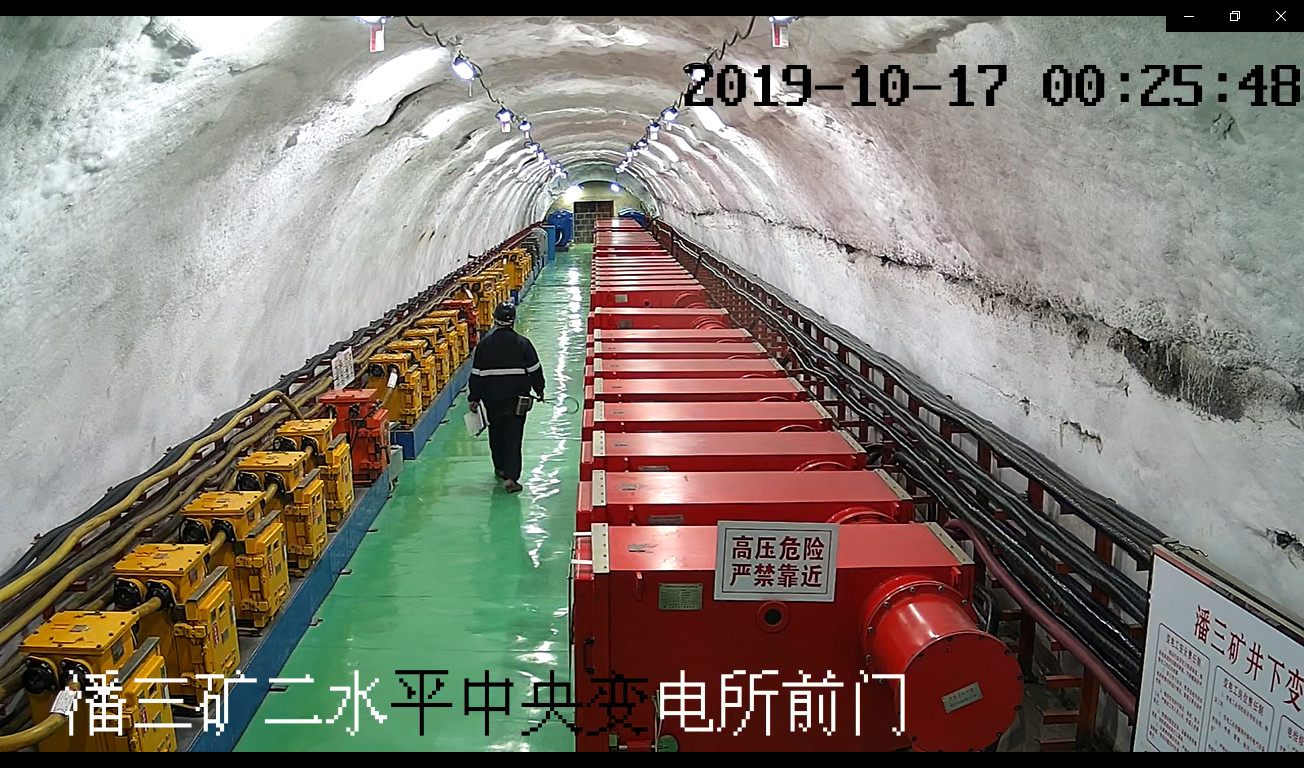helmet: (494, 300, 516, 326)
